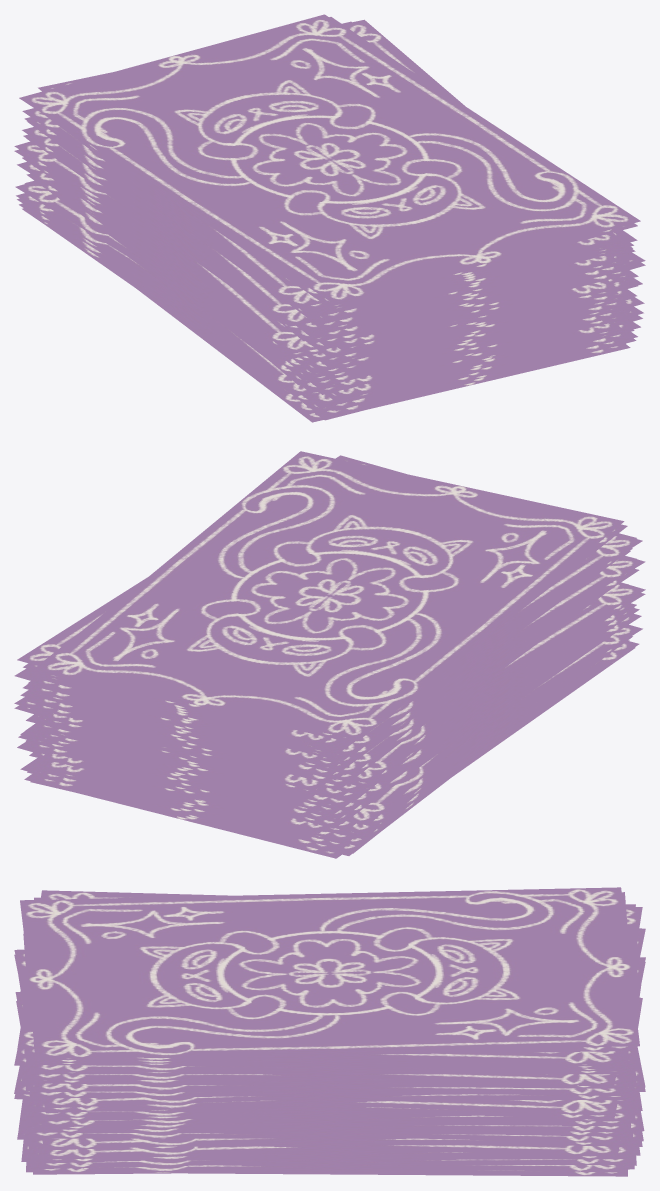
Rendered from TarotDeck.fbx.
The picture shows the model from 3 angles, top to bottom: view 1: azimuth 30°, elevation 25°; view 2: azimuth 150°, elevation 25°; view 3: azimuth 270°, elevation 25°; orthographic projection. The views are drawn at different scales.
Parts seen in each view (by area): view 1: Plane; view 2: Plane; view 3: Plane.
Boxes of the visible parts, <box> form: Plane: <box>14,14,645,422</box>; Plane: <box>14,451,645,858</box>; Plane: <box>14,887,645,1176</box>.
Bounding box in the file's own units: 113 × 35.7 × 168.
